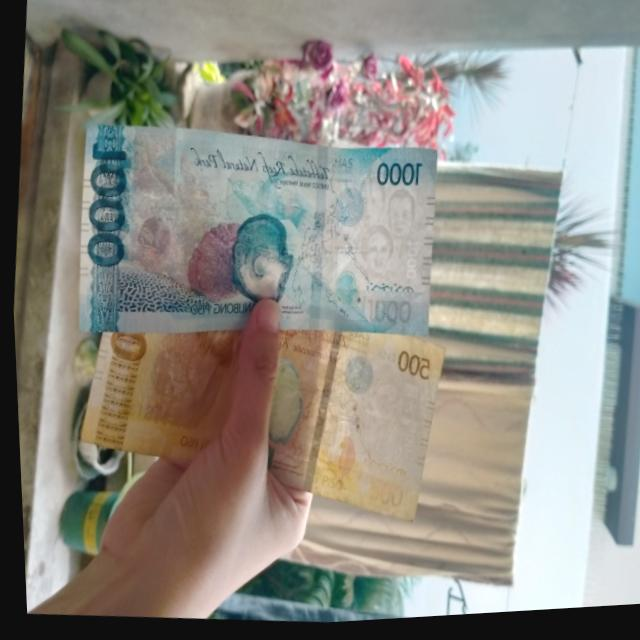security_thread: (295, 330, 339, 497), (298, 149, 334, 334)
see_through_mark: (357, 279, 414, 308), (355, 453, 405, 485)
value: (76, 137, 136, 273)
value_watermark: (400, 239, 419, 285), (397, 425, 415, 461)
watermark: (345, 176, 422, 287), (354, 373, 422, 474)
